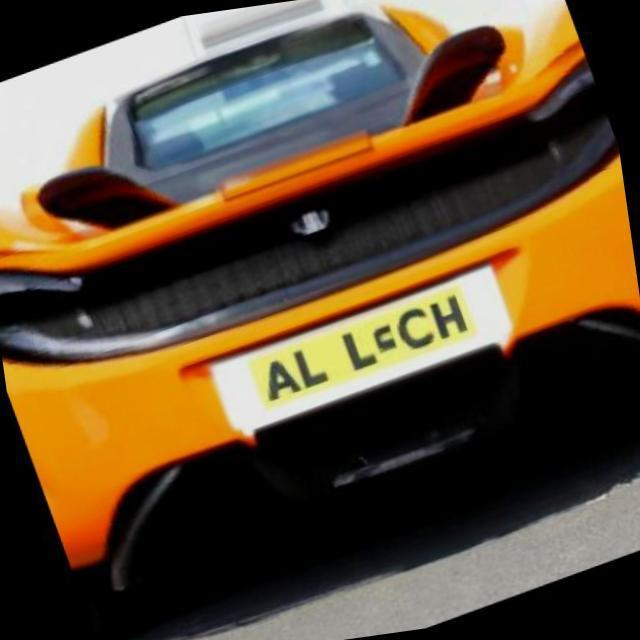License Plate: (209, 263, 512, 435)
